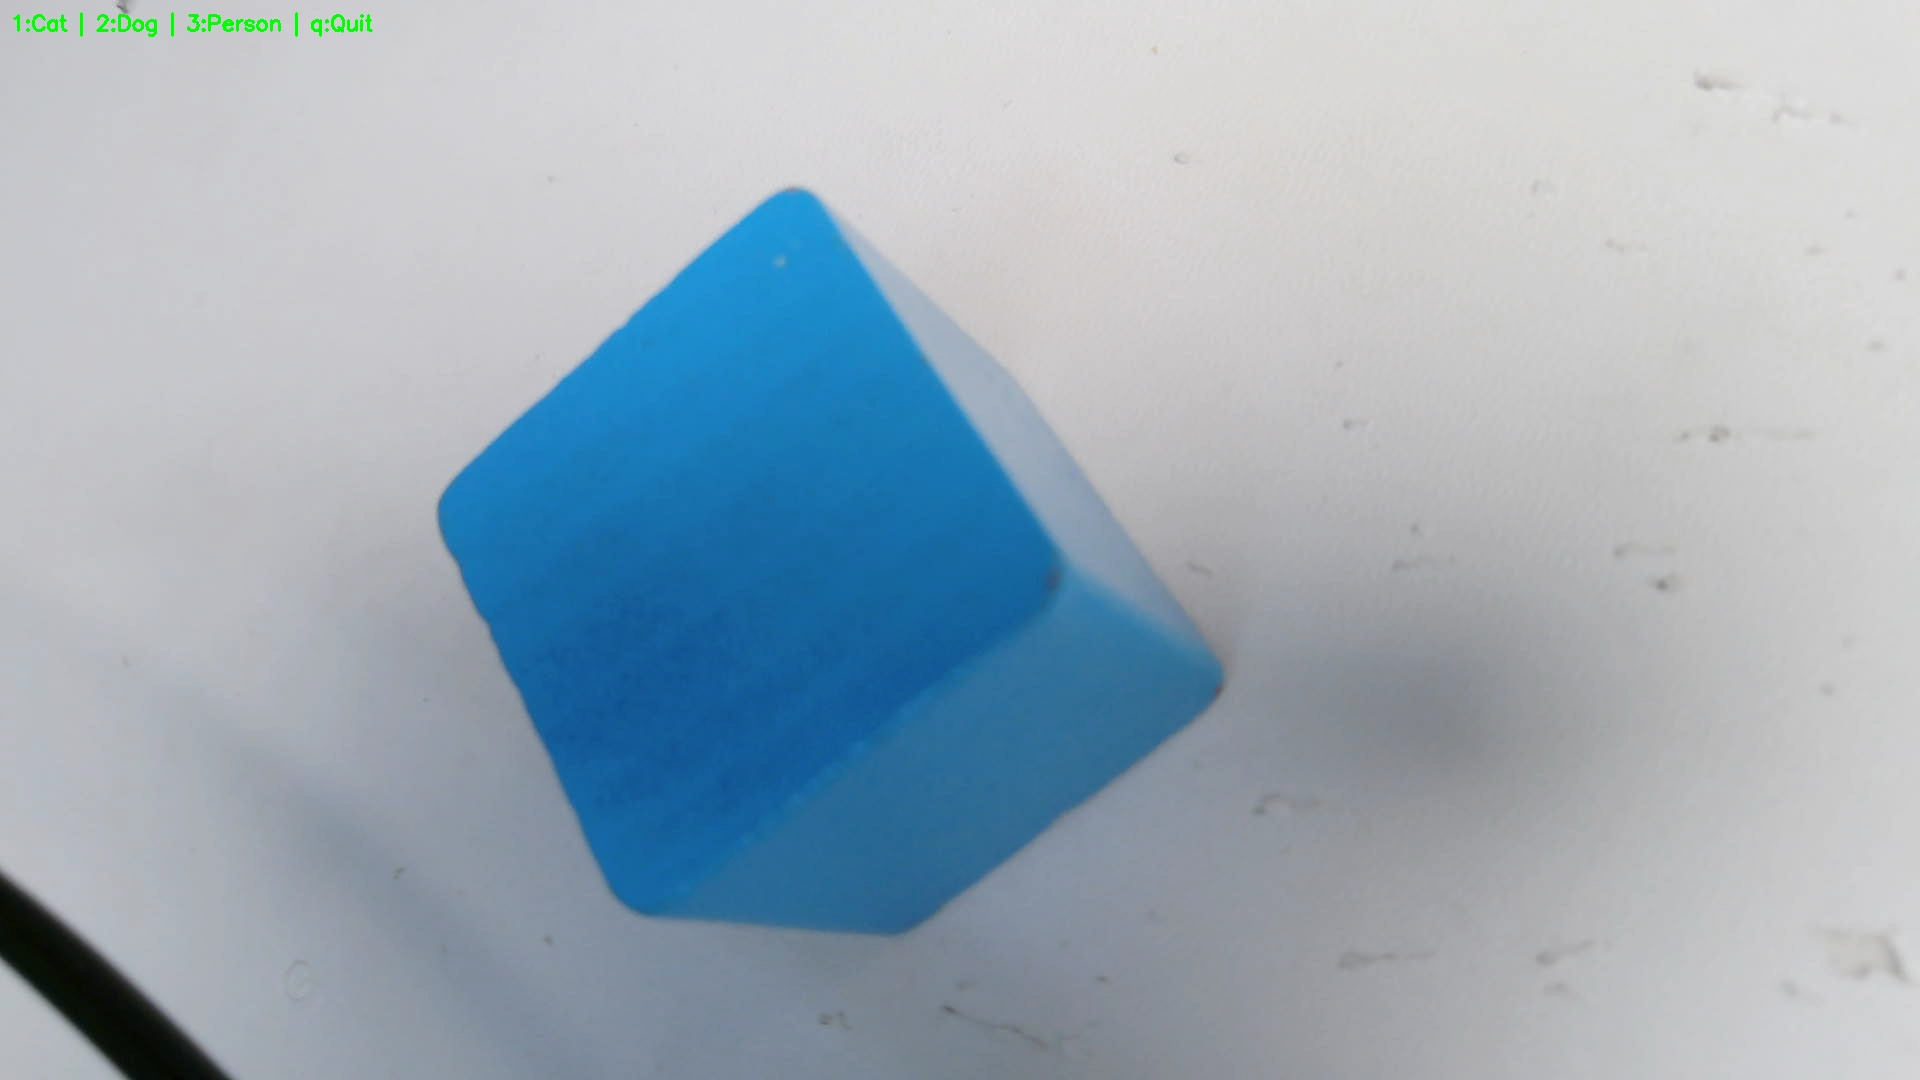blue: (434, 179, 1240, 945)
